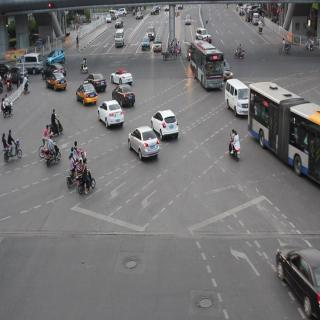BigCar: (251, 80, 316, 182), (188, 38, 218, 92)
Car: (260, 219, 320, 313), (121, 128, 164, 163), (152, 108, 187, 140), (226, 79, 246, 118), (84, 64, 107, 97), (96, 101, 126, 124), (110, 87, 144, 107), (110, 61, 135, 85), (46, 67, 66, 91), (110, 30, 130, 53), (79, 80, 96, 106), (22, 53, 44, 73), (7, 61, 30, 79), (46, 45, 65, 63), (152, 38, 161, 58), (142, 35, 150, 57), (147, 23, 158, 37)
